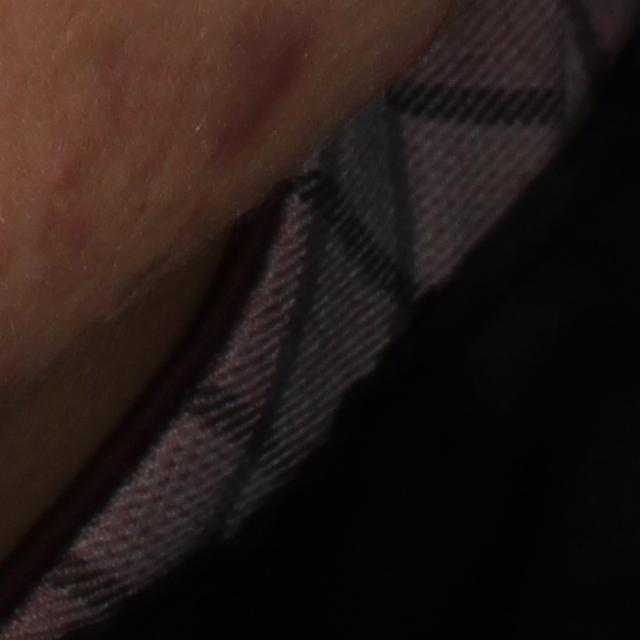nodule: (208, 14, 308, 154)
papule: (41, 156, 77, 191)
